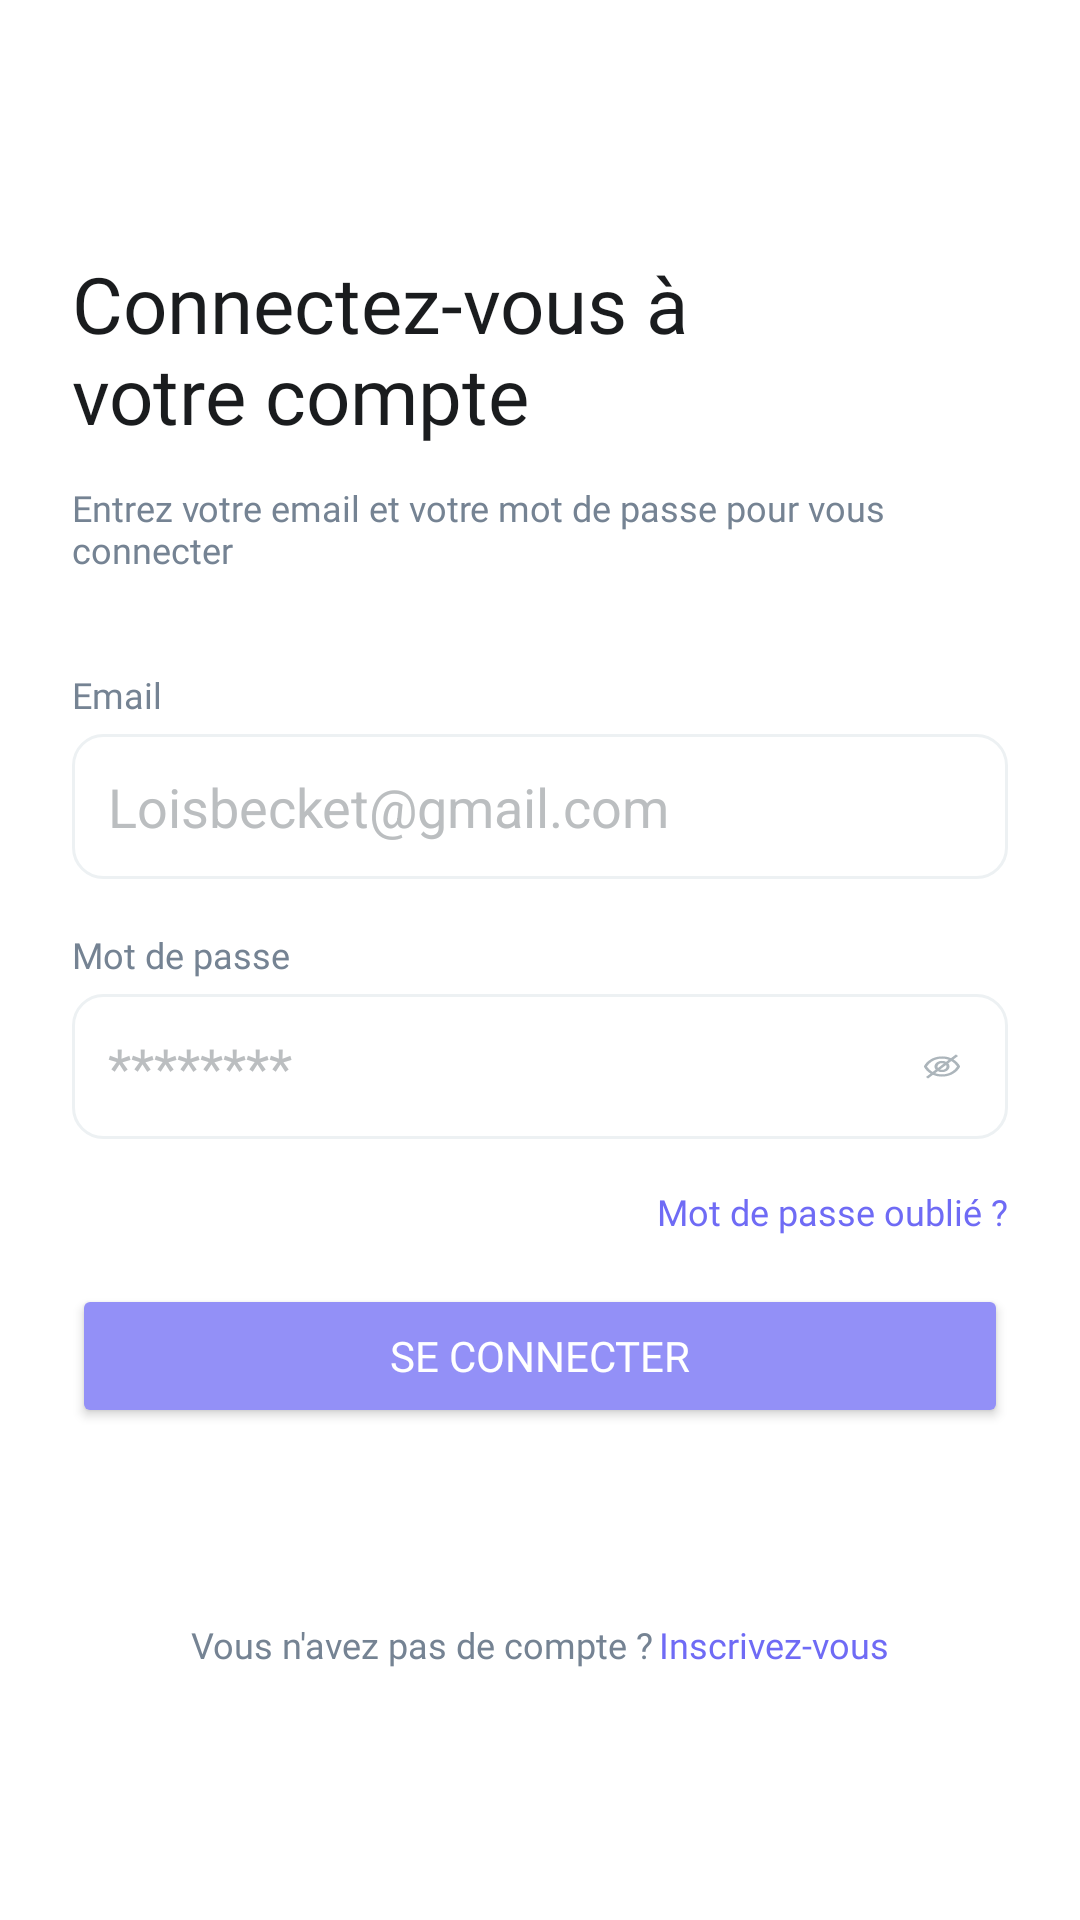

Icon bounding boxes for this 1080x1920 phone screenshot, format (x1, y1, x2, y2):
eye off: (924, 1055, 960, 1078)
